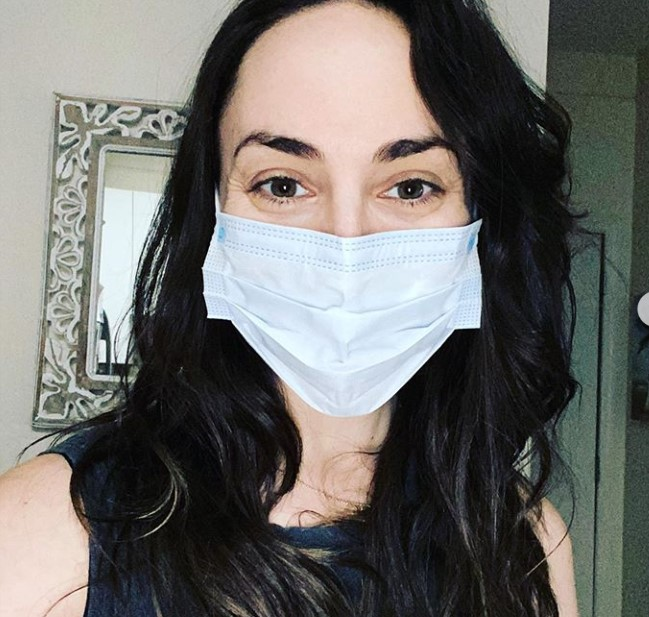face_with_mask: (189, 6, 504, 434)
